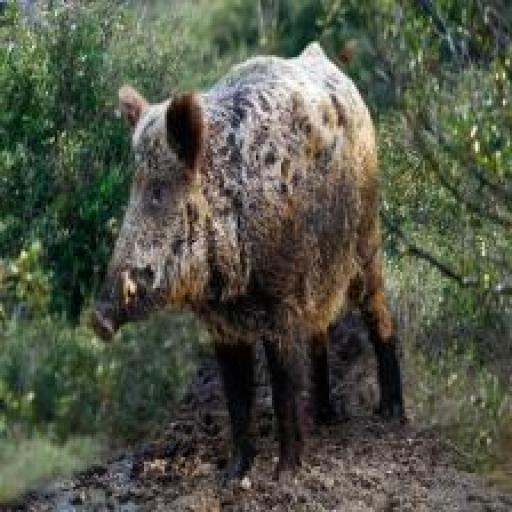Pig: (85, 34, 416, 502)
